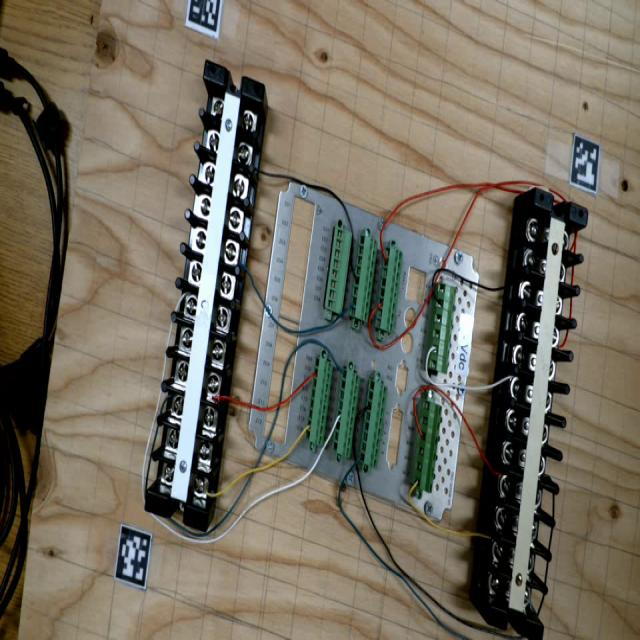Flathead_Block: (487, 188, 591, 640)
Phillips_Block: (143, 60, 269, 532)
Terminal_1: (426, 283, 457, 374), (412, 399, 442, 493)
Terminal_2: (358, 378, 388, 469), (348, 234, 379, 322), (331, 369, 361, 459), (305, 357, 334, 447), (374, 246, 404, 333)
